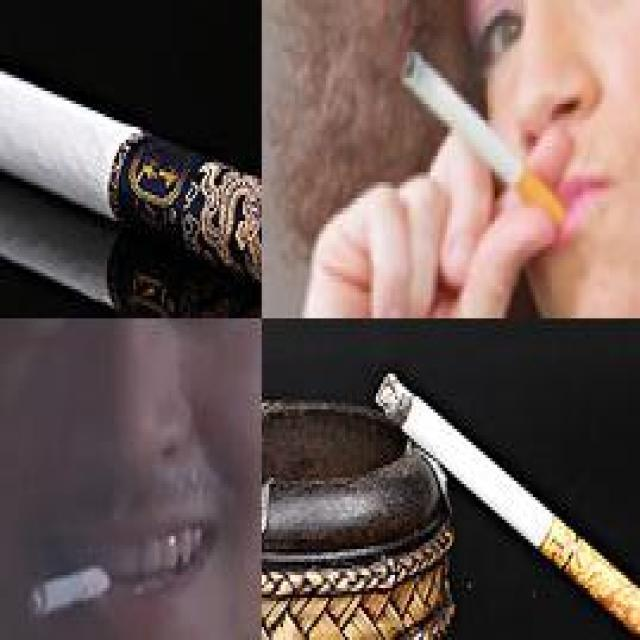smoking: (0, 0, 259, 312), (371, 364, 638, 637), (0, 91, 259, 315), (398, 47, 566, 232), (26, 556, 124, 618)
